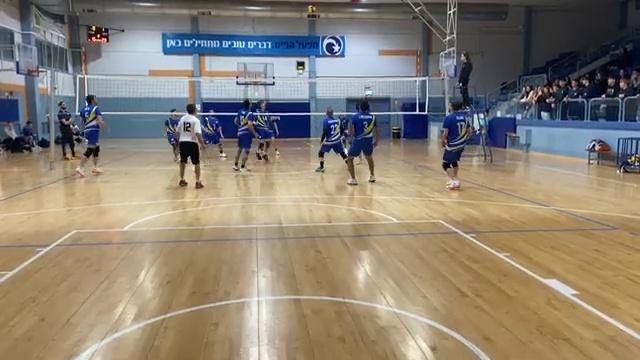ball: (303, 4, 318, 14)
